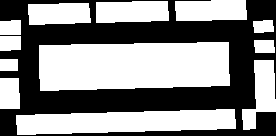parkingspot: (16, 109, 235, 134), (39, 63, 229, 90), (39, 42, 228, 69), (96, 1, 168, 22), (175, 0, 246, 20), (28, 3, 90, 24), (254, 60, 275, 111), (0, 78, 19, 108), (0, 36, 20, 50), (0, 20, 20, 34), (242, 109, 255, 129), (253, 20, 273, 32), (254, 40, 274, 52), (0, 59, 17, 70)
